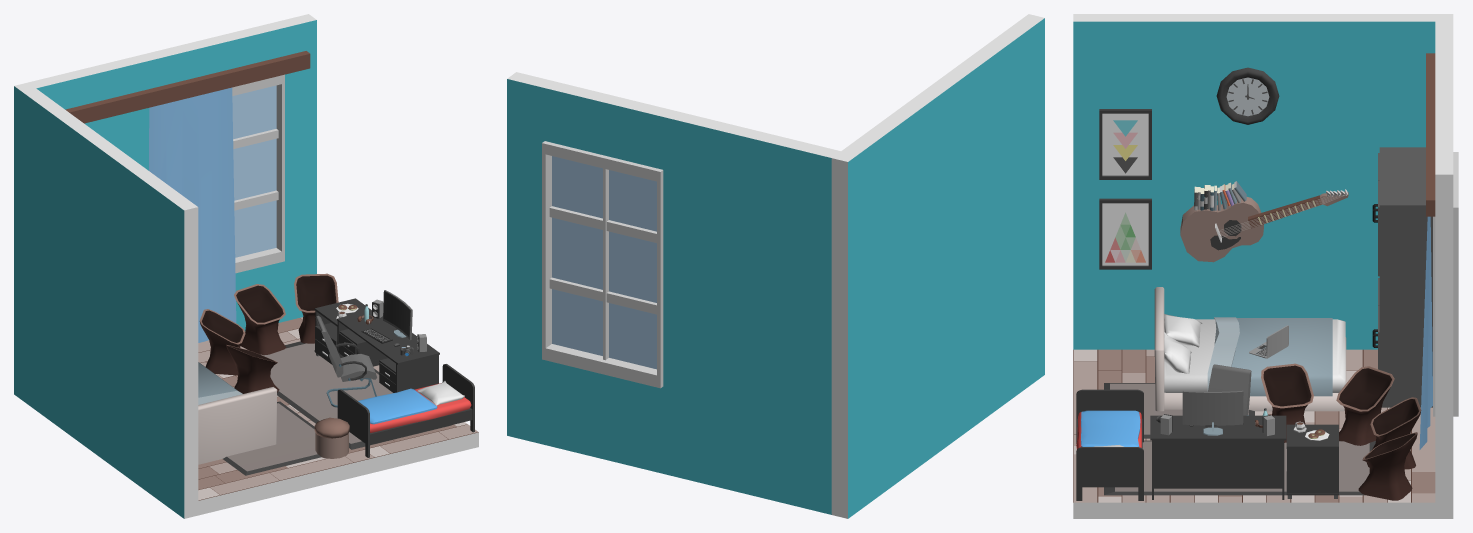
File: room_3.glb
3 views of the same model, side by side, from view 1: azimuth 30°, elevation 25°; view 2: azimuth 150°, elevation 25°; view 3: azimuth 270°, elevation 25° (orthographic). The views are drawn at different scales.
Visible parts, largest first — view 1: Walls_094.003, Curtains_002.001, window_020.004, Walls_094.002, Walls_094.004, bed_013.001, bed_016.002, floor_018.016, carpet_001.009, Walls_056.002, Walls_019.002, office_table_030.001 (+11 smaller); view 2: Walls_094.003, Walls_094.004, window_020.004, Walls_094.002, Walls_094.005, Walls_094.006; view 3: Walls_094.003, bed_016.002, closet_033.001, floor_018.016, office_table_030.001, Walls_094.002, Walls_056.002, bed_013.001, musical_instrument_017.002, picture_051.001, picture_050.002, shelf_027.002 (+16 smaller).
Boxes of the visible parts, x1,y1,x2,y2 form: Walls_094.003: [14, 82, 198, 518]; Curtains_002.001: [149, 87, 236, 342]; window_020.004: [232, 74, 284, 273]; Walls_094.002: [274, 14, 316, 321]; Walls_094.004: [28, 46, 183, 170]; bed_013.001: [337, 364, 474, 457]; bed_016.002: [198, 362, 277, 464]; floor_018.016: [198, 317, 477, 500]; carpet_001.009: [261, 341, 451, 449]; Walls_056.002: [198, 318, 478, 515]; Walls_019.002: [65, 51, 310, 123]; office_table_030.001: [337, 310, 439, 392]; Walls_094.003: [831, 14, 1044, 518]; Walls_094.004: [661, 109, 840, 514]; window_020.004: [542, 141, 663, 388]; Walls_094.002: [507, 72, 556, 445]; Walls_094.005: [547, 361, 661, 473]; Walls_094.006: [547, 82, 669, 169]; Walls_094.003: [1073, 14, 1453, 349]; bed_016.002: [1154, 287, 1346, 411]; closet_033.001: [1372, 147, 1432, 407]; floor_018.016: [1074, 349, 1435, 502]; office_table_030.001: [1150, 415, 1286, 499]; Walls_094.002: [1435, 155, 1453, 518]; Walls_056.002: [1073, 349, 1435, 518]; bed_013.001: [1076, 389, 1143, 500]; musical_instrument_017.002: [1180, 189, 1348, 262]; picture_051.001: [1099, 198, 1151, 269]; picture_050.002: [1099, 109, 1151, 179]; shelf_027.002: [1286, 424, 1338, 498].
Bounding box in the file's own units: 4.21 × 4.2 × 4.26.
1 material, 1 textured.
